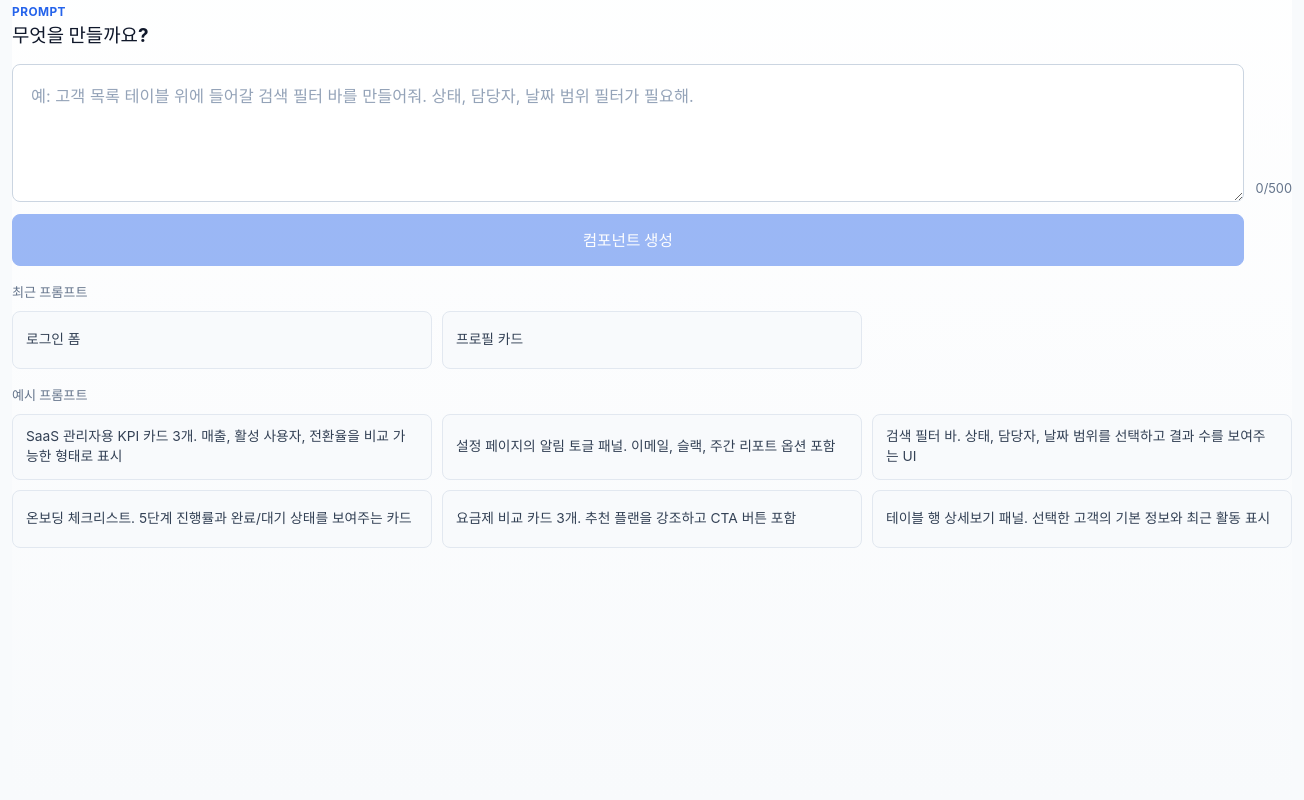
Test: PromptInput › 최근 프롬프트를 클릭하면 입력창에 채워진다
This screenshot has width=1304, height=800.
What coordinates should you click on to do the following:
click the button "프로필 카드"
I would click on:
 (490, 339)
Its box is [442,311,862,369].
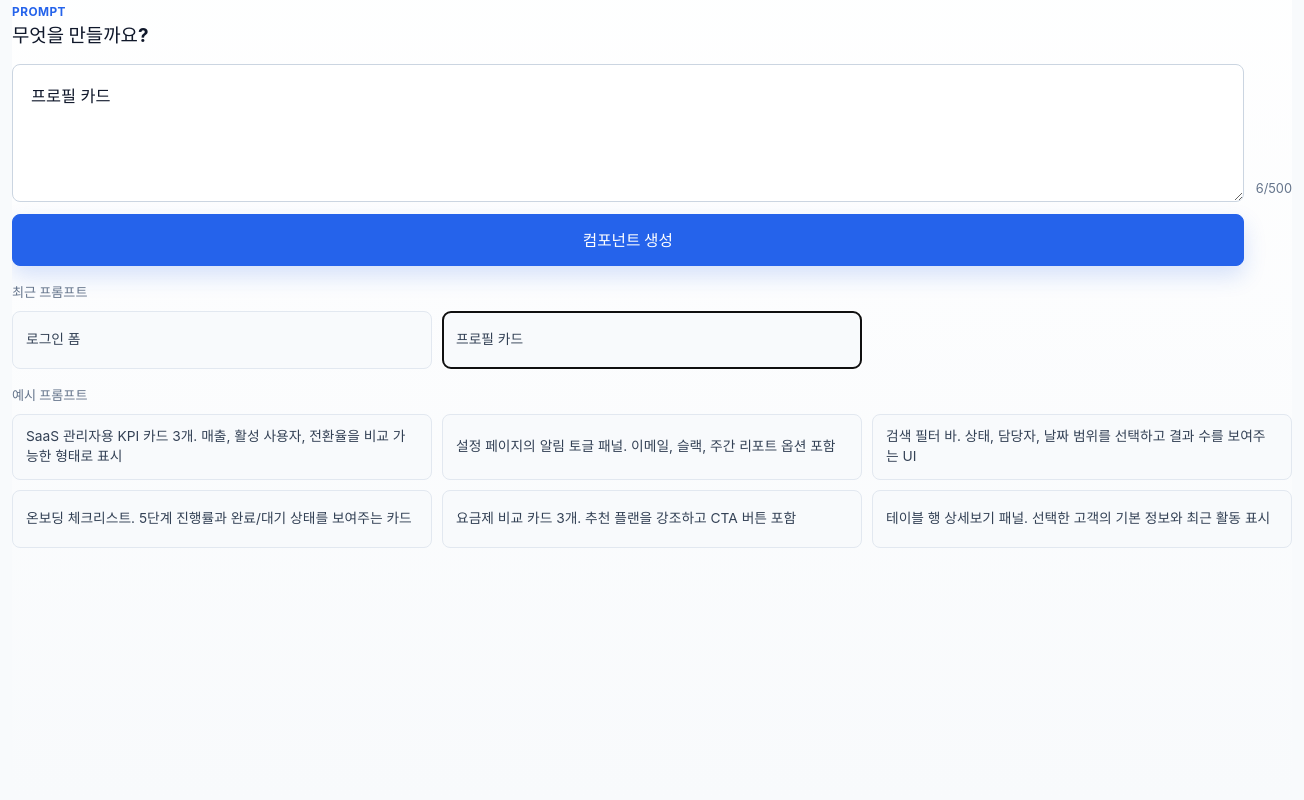
Now the text box holds "프로필 카드", box [12,64,1244,202]
